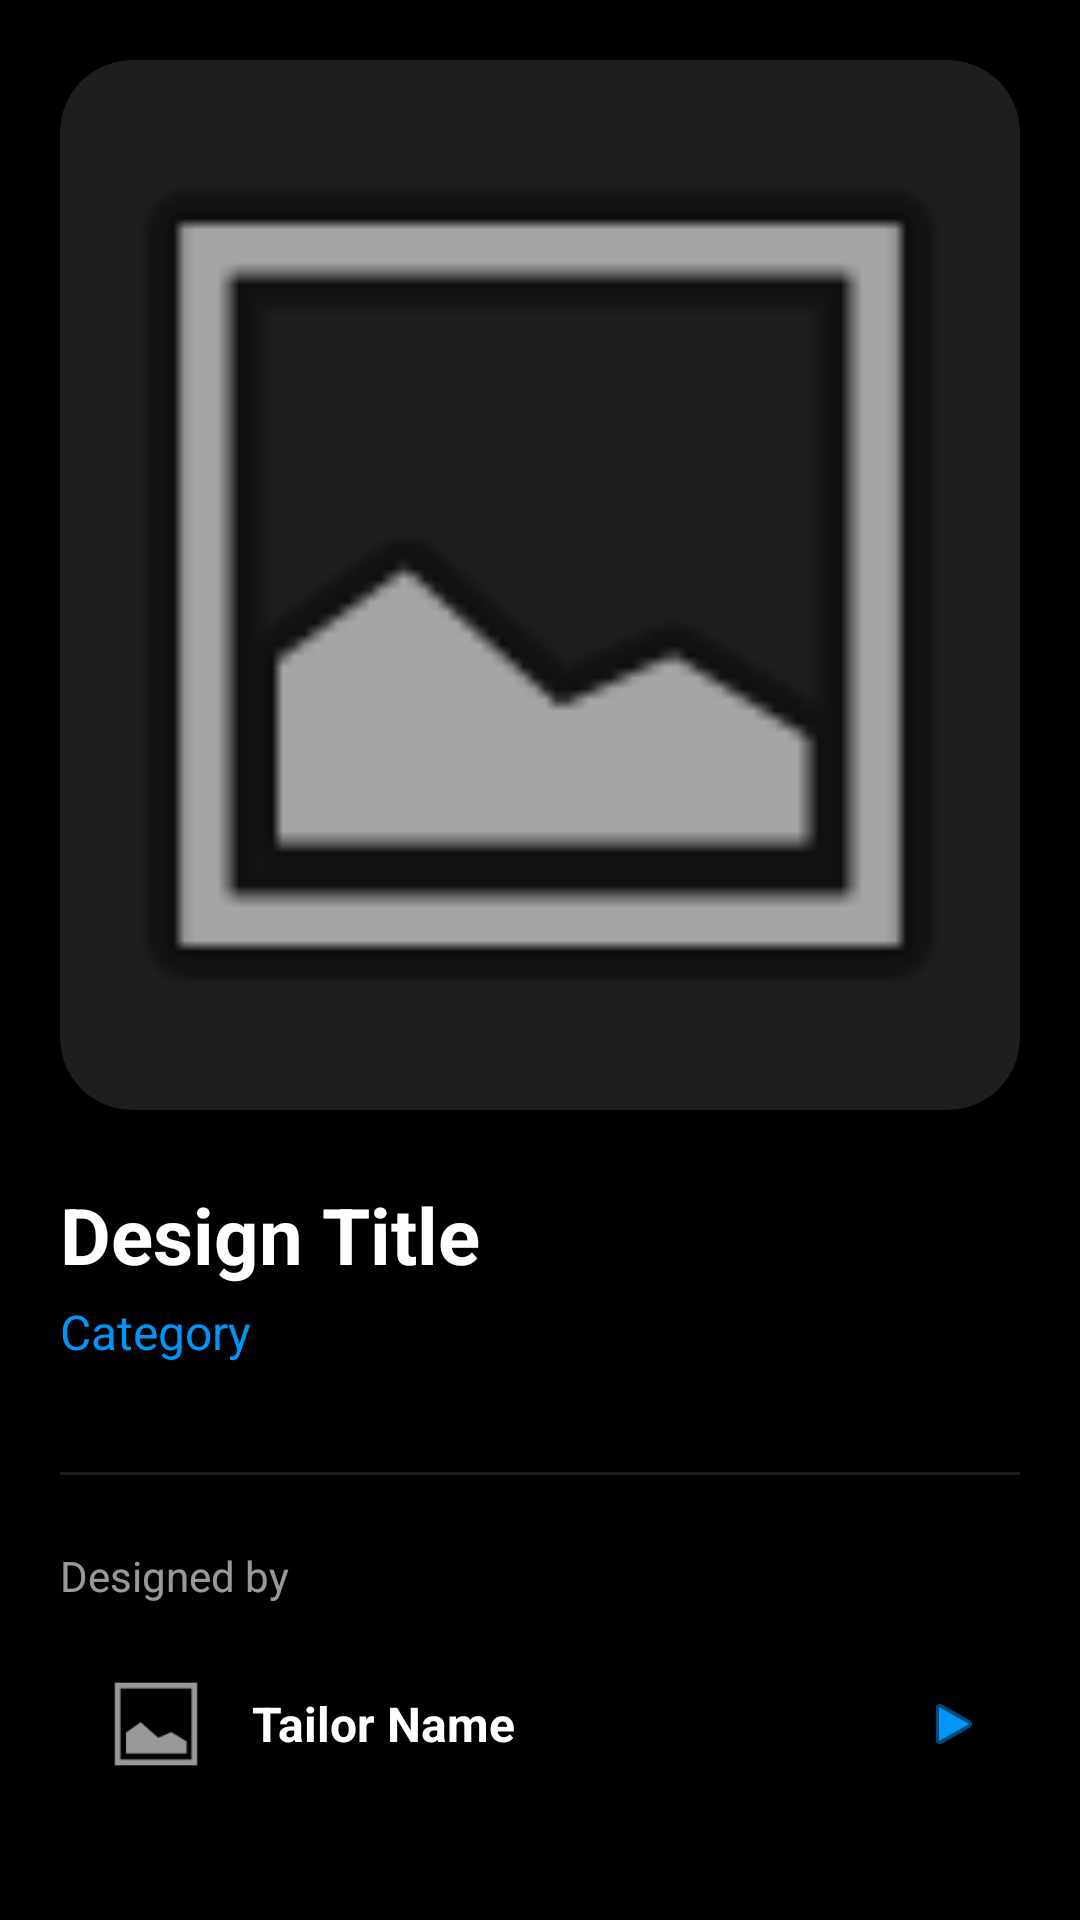

Icon bounding boxes for this 1080*1920 phone screenshot, format (x1, y1, x2, y2):
play: (936, 1704, 972, 1744)
